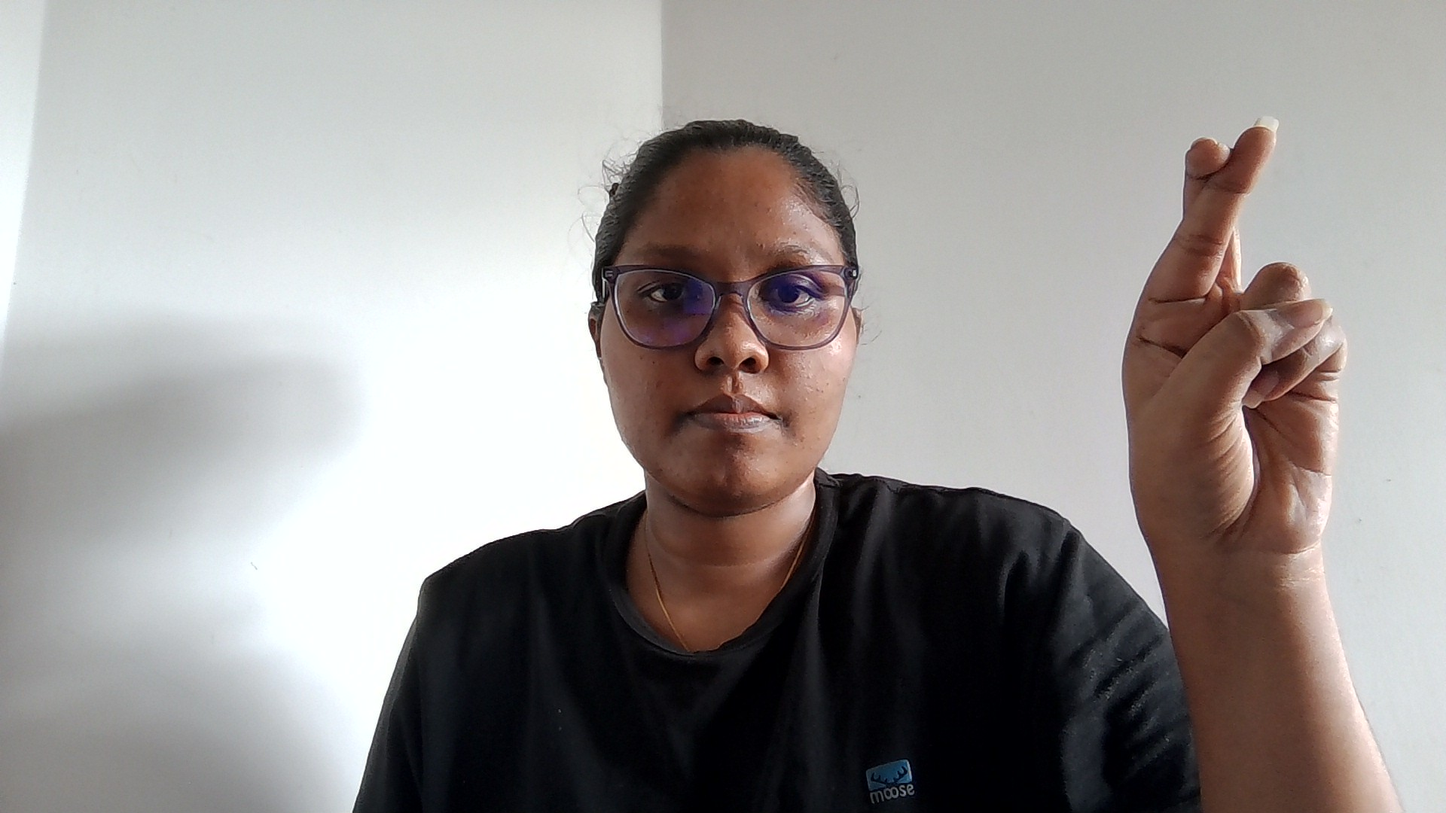Good_Luck: (1086, 58, 1398, 615)
